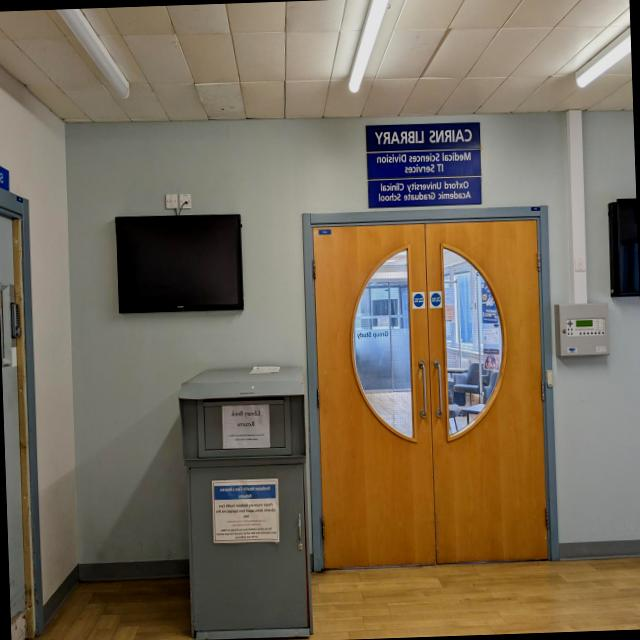door: (303, 206, 559, 571), (0, 188, 42, 640)
